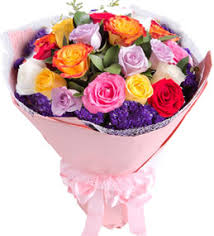lale: (50, 35, 98, 84), (84, 72, 130, 117), (99, 10, 149, 48), (12, 52, 49, 98), (68, 20, 114, 55), (149, 78, 187, 120), (31, 67, 72, 104), (118, 71, 155, 110), (48, 84, 88, 120), (116, 42, 149, 77), (146, 36, 173, 73)
